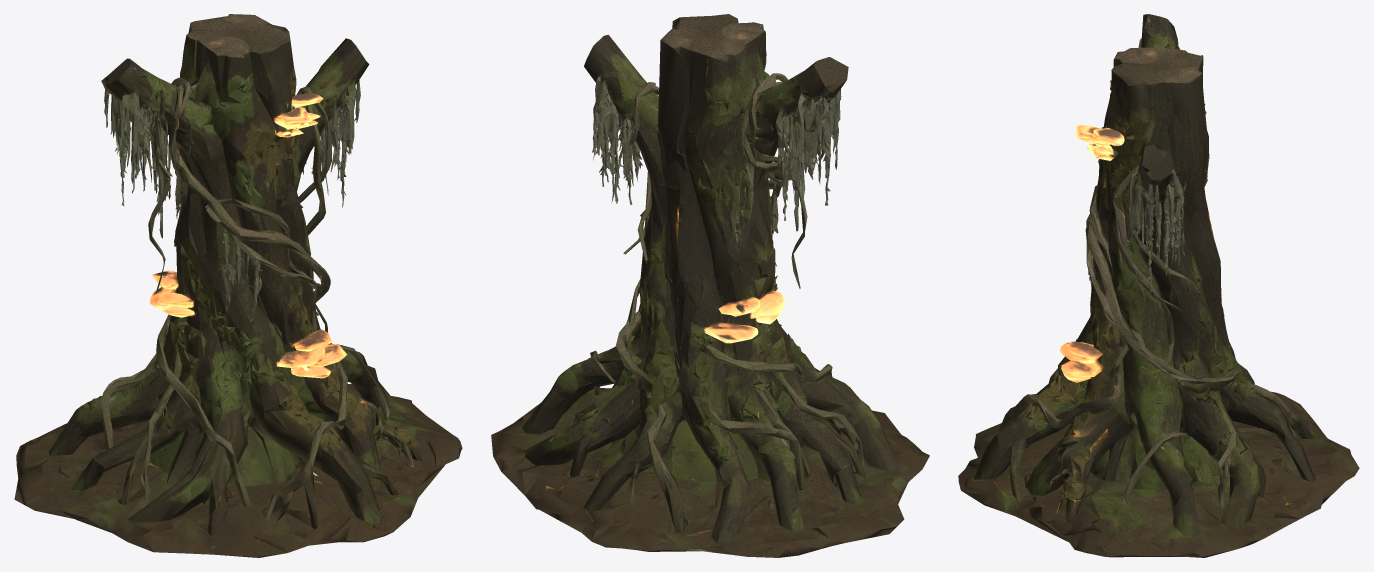
Rendered from sp_mtree_2.glb.
The picture shows the model from 3 angles, left to right: view 1: azimuth 30°, elevation 25°; view 2: azimuth 150°, elevation 25°; view 3: azimuth 270°, elevation 25°; orthographic projection. The views are drawn at different scales.
Parts seen in each view (by area): view 1: Mesh_0; view 2: Mesh_0; view 3: Mesh_0.
Boxes of the visible parts, bbox=[...] form: Mesh_0: bbox=[14, 14, 462, 557]; Mesh_0: bbox=[491, 14, 929, 557]; Mesh_0: bbox=[958, 14, 1359, 557].
Bounding box in the file's own units: 1.82 × 1.9 × 1.7.
Materials: 1 (1 with a texture image).
